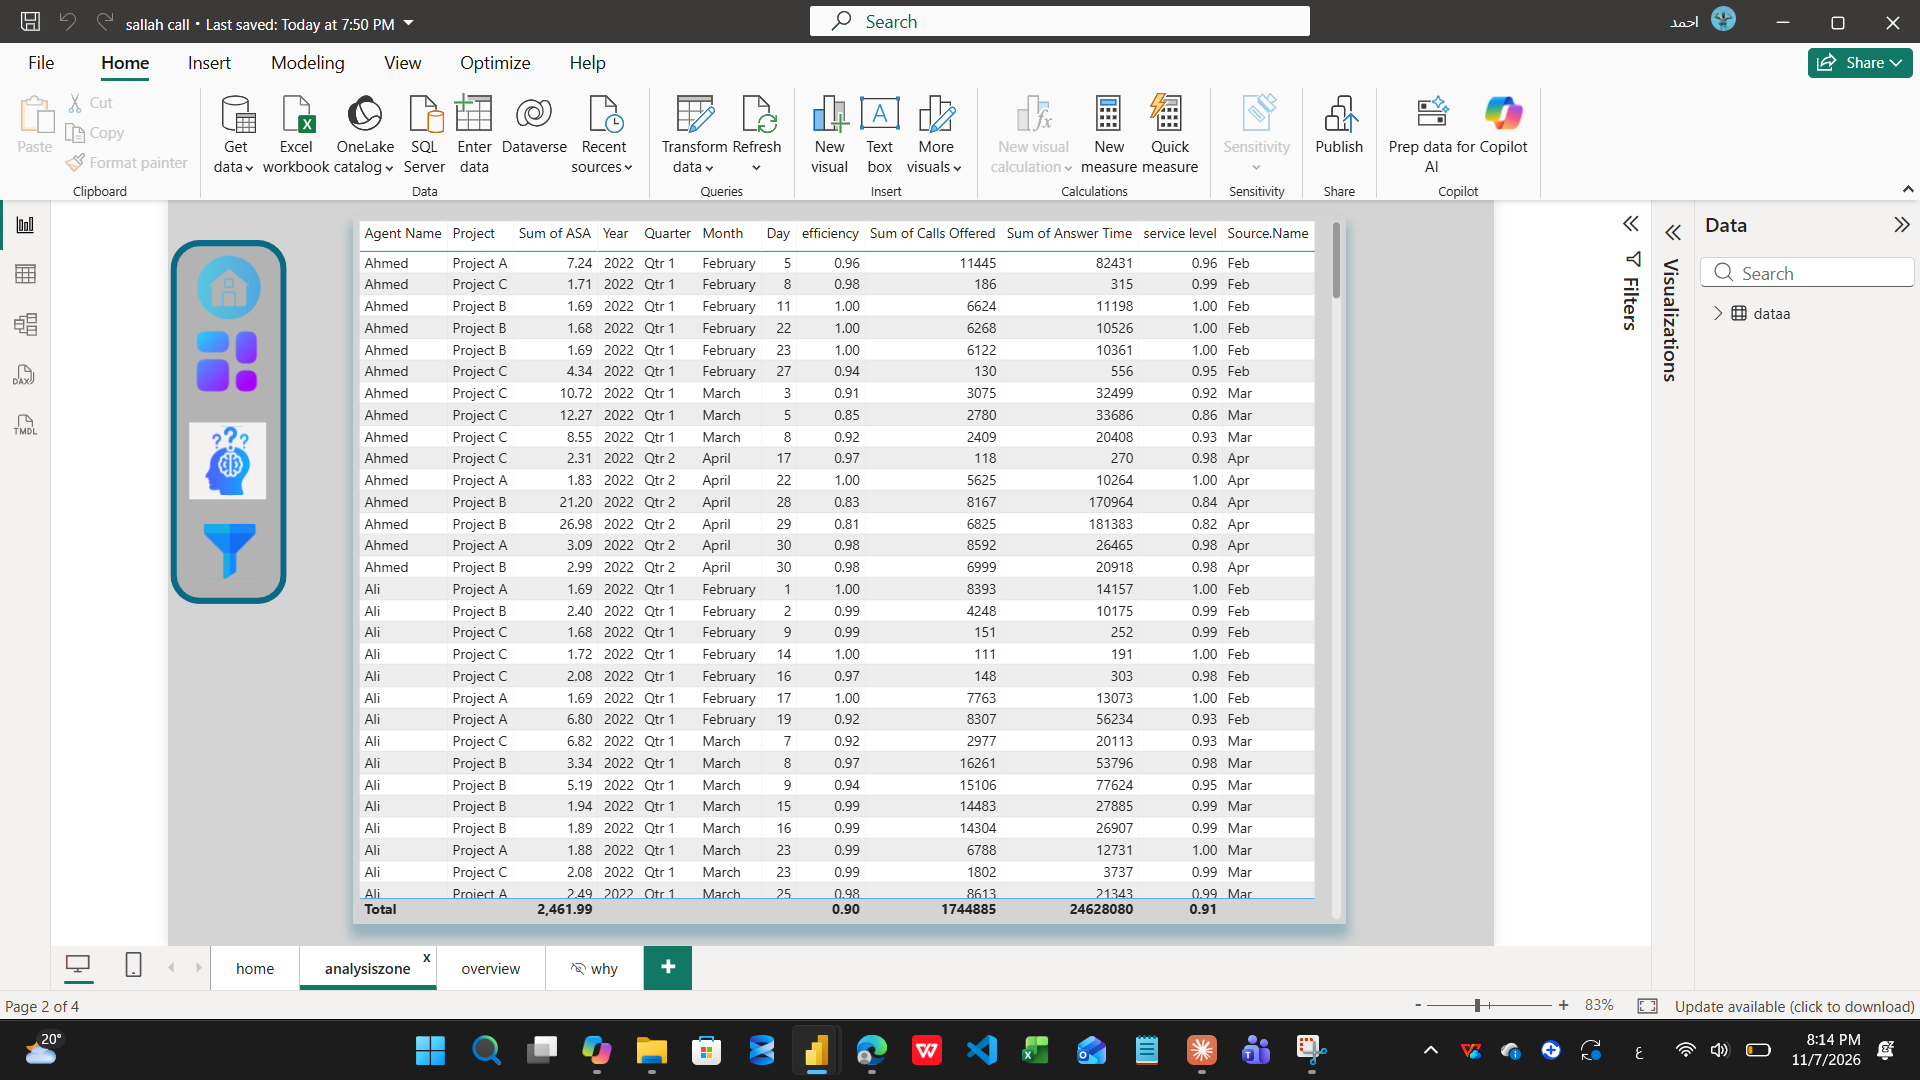

The dashboard page shown, as its layout file describes it:
{"tool":"powerbi","page":{"name":"analysiszone","canvas":[1280,720],"ordinal":1},"visuals":[{"type":"shape","box":[2.7,39.2,112.2,351.4],"z":0},{"type":"actionButton","box":[24.2,38.7,69.4,91.9],"z":1000},{"type":"actionButton","box":[21,119.4,74.2,72.6],"z":2000},{"type":"actionButton","box":[29,304.8,61.3,67.7],"z":3000},{"type":"actionButton","box":[21,214.5,74.2,74.2],"z":4000},{"type":"tableEx","fields":{"Values":["dataa.Agent Name","dataa.Project","Sum(dataa.ASA)","dataa.Date.Variation.Date Hierarchy.Year","dataa.Date.Variation.Date Hierarchy.Quarter","dataa.Date.Variation.Date Hierarchy.Month","dataa.Date.Variation.Date Hierarchy.Day","dataa.efficiency","Sum(dataa.Calls Offered)","Sum(dataa.Answer Time)","dataa.service level","dataa.Source.Name"]},"box":[178.5,15.9,958.7,683.6],"z":5000}]}

Visuals, with their boxes on the page's 1280x720 design canvas (x1, y1, x2, y2). These are canvas units, not pixel positions in the 1920x1080 screenshot, which may show the page scaled, cropped or inside an application window:
shape: [left=3, top=39, right=115, bottom=391]
actionButton: [left=24, top=39, right=94, bottom=131]
actionButton: [left=21, top=119, right=95, bottom=192]
actionButton: [left=29, top=305, right=90, bottom=372]
actionButton: [left=21, top=214, right=95, bottom=289]
tableEx - dataa.Agent Name x dataa.Project: [left=178, top=16, right=1137, bottom=700]
